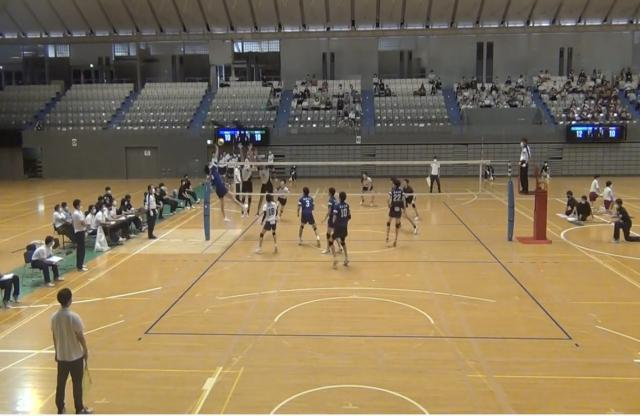spike: (202, 134, 250, 226)
